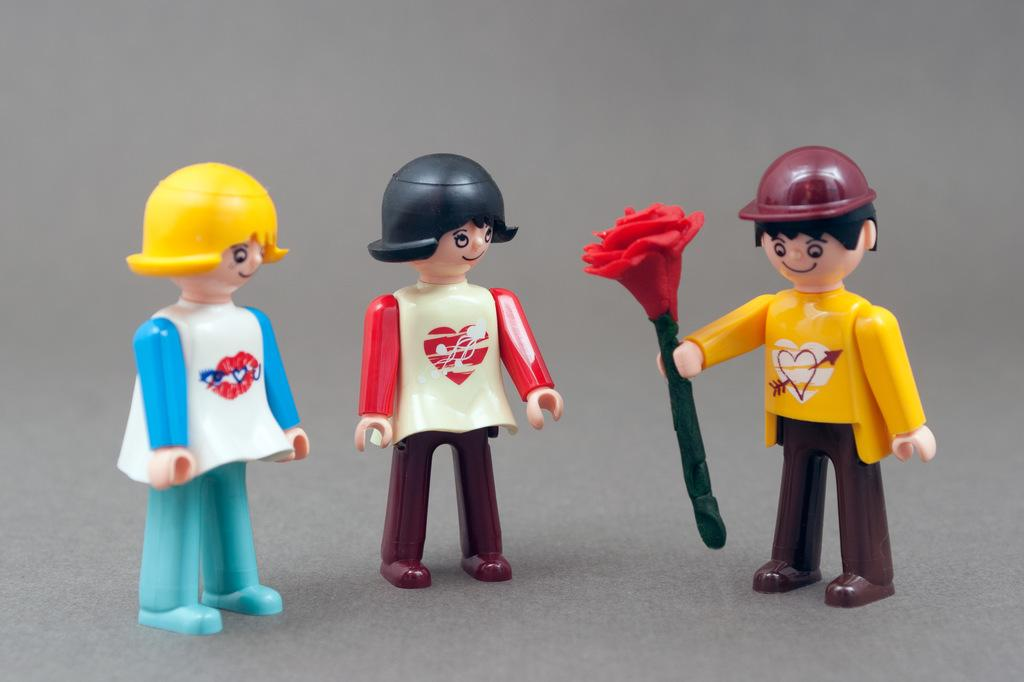Hat: (740, 143, 878, 223)
